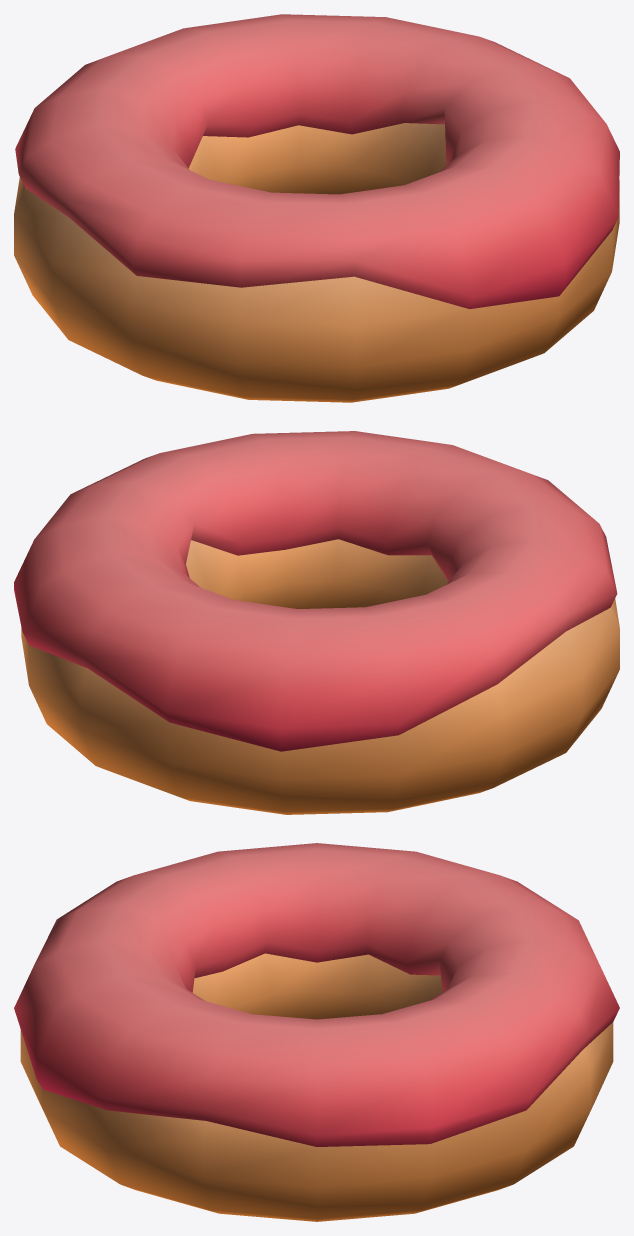
File: donut_001.fbx
The picture shows the model from 3 angles, top to bottom: view 1: azimuth 30°, elevation 25°; view 2: azimuth 150°, elevation 25°; view 3: azimuth 270°, elevation 25°; orthographic projection. The views are drawn at different scales.
Parts seen in each view (by area): view 1: donut_001; view 2: donut_001; view 3: donut_001.
Boxes of the visible parts, left/top/right/bottom form: donut_001: left=14, top=14, right=619, bottom=402; donut_001: left=14, top=431, right=619, bottom=814; donut_001: left=14, top=843, right=619, bottom=1221.
Size of the model in its own units: 10.55 by 10.67 by 3.63.
